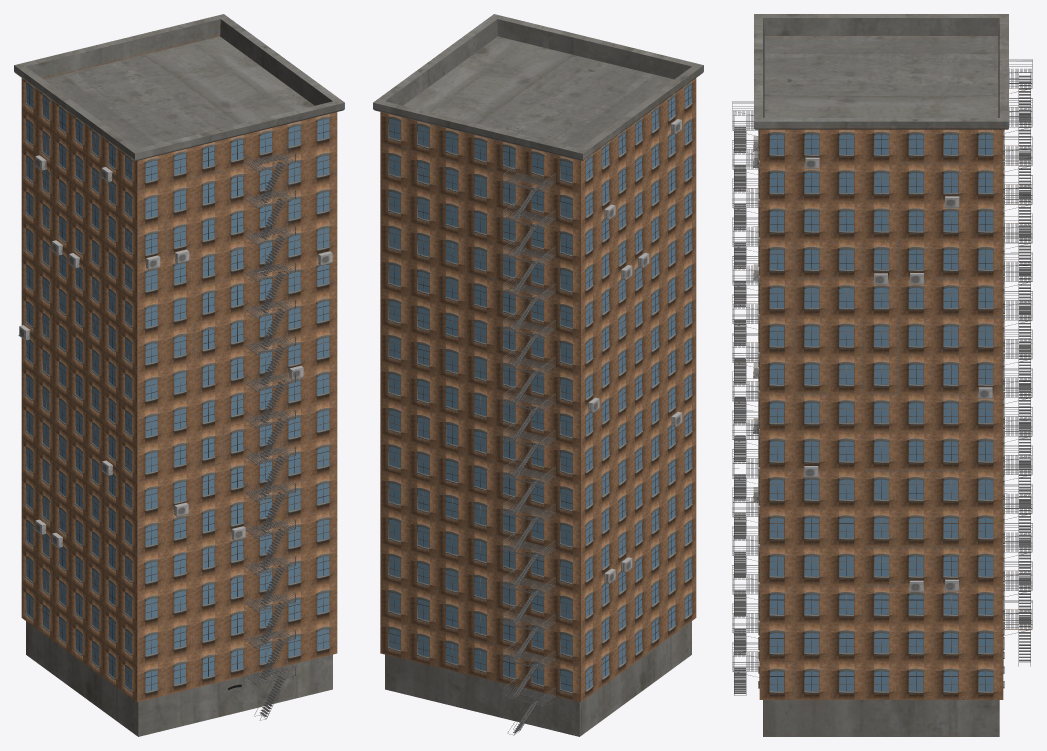
The model's file is building-medium-01.glb.
3 views of the same model, side by side, from view 1: azimuth 30°, elevation 25°; view 2: azimuth 150°, elevation 25°; view 3: azimuth 270°, elevation 25° (orthographic). The views are drawn at different scales.
Visible parts, largest first — view 1: Building-Medium-01_Bake1_PBR; view 2: Building-Medium-01_Bake1_PBR; view 3: Building-Medium-01_Bake1_PBR.
Part boxes in pixels (x1=…): Building-Medium-01_Bake1_PBR: x1=14, y1=14, x2=344, y2=736; Building-Medium-01_Bake1_PBR: x1=373, y1=14, x2=703, y2=736; Building-Medium-01_Bake1_PBR: x1=732, y1=14, x2=1032, y2=736.
Size of the model in its own units: 12.75 by 33.67 by 14.81.
1 material, 1 textured.
